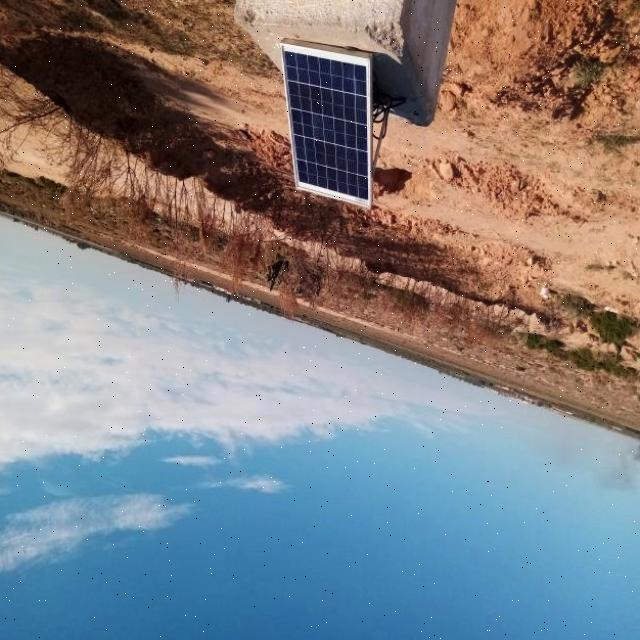Normal Solar Panel: (281, 42, 371, 206)
